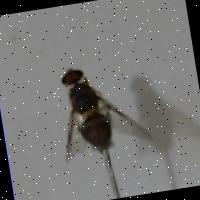Oriental-fruit-fly: (37, 47, 169, 182)
